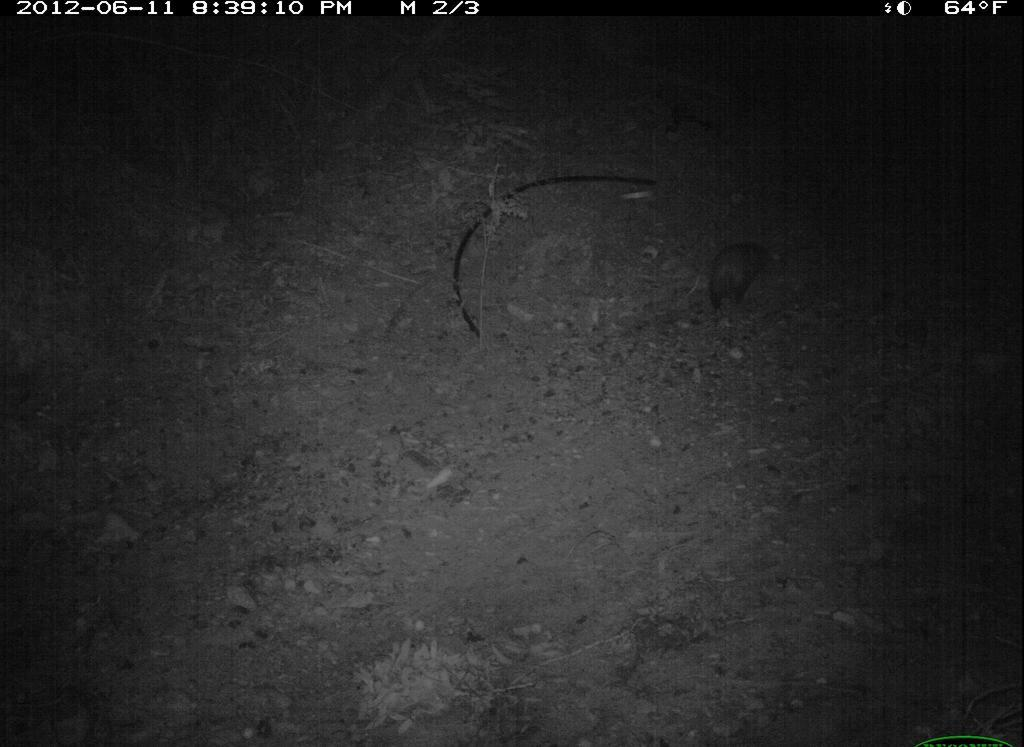opossum: (689, 232, 784, 324)
